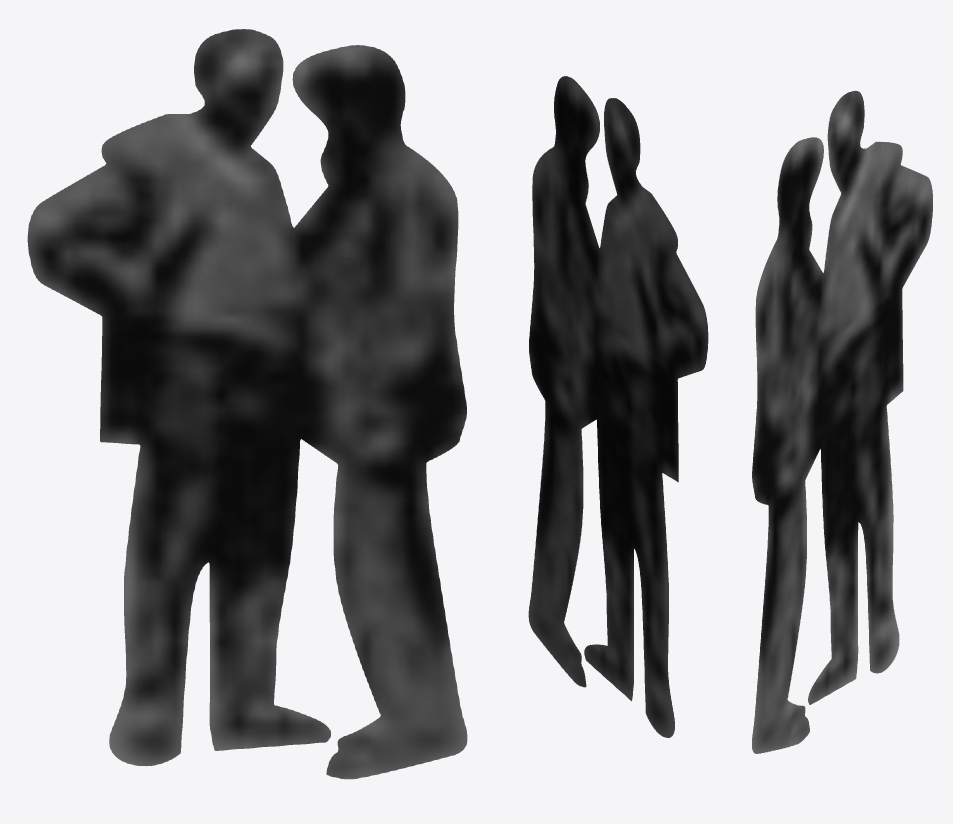
Rendered from 2man.FBX.
The picture shows the model from 3 angles, left to right: view 1: azimuth 30°, elevation 25°; view 2: azimuth 150°, elevation 25°; view 3: azimuth 270°, elevation 25°; orthographic projection. The views are drawn at different scales.
Parts seen in each view (by area): view 1: 2man; view 2: 2man; view 3: 2man.
Part boxes in pixels (left/top/right/bottom): 2man: left=27, top=29, right=467, bottom=779; 2man: left=528, top=76, right=708, bottom=737; 2man: left=752, top=90, right=932, bottom=753.
Size of the model in its own units: 93.9 by 200 by 54.51.
Materials: 1 (1 with a texture image).
